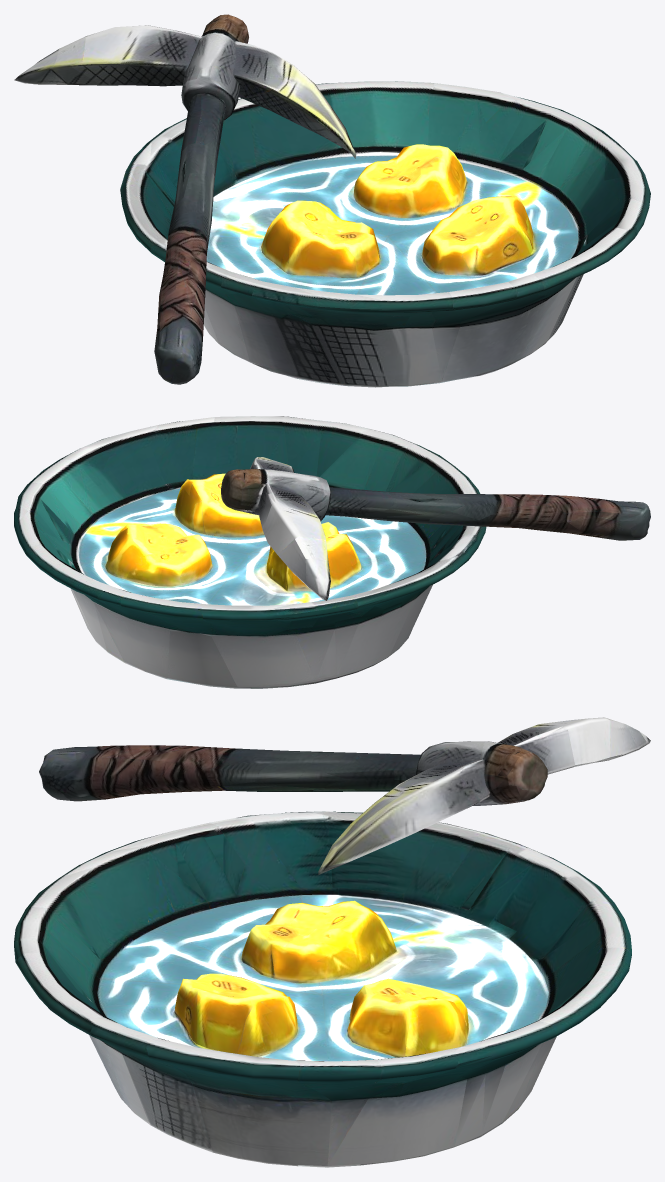
File: gold_rush.glb
3 renders of one model, top to bottom at view 1: azimuth 30°, elevation 25°; view 2: azimuth 150°, elevation 25°; view 3: azimuth 270°, elevation 25°, orthographic. The views are drawn at different scales.
Size of the model in its own units: 1 by 0.4268 by 0.8535.
1 material, 1 textured.
